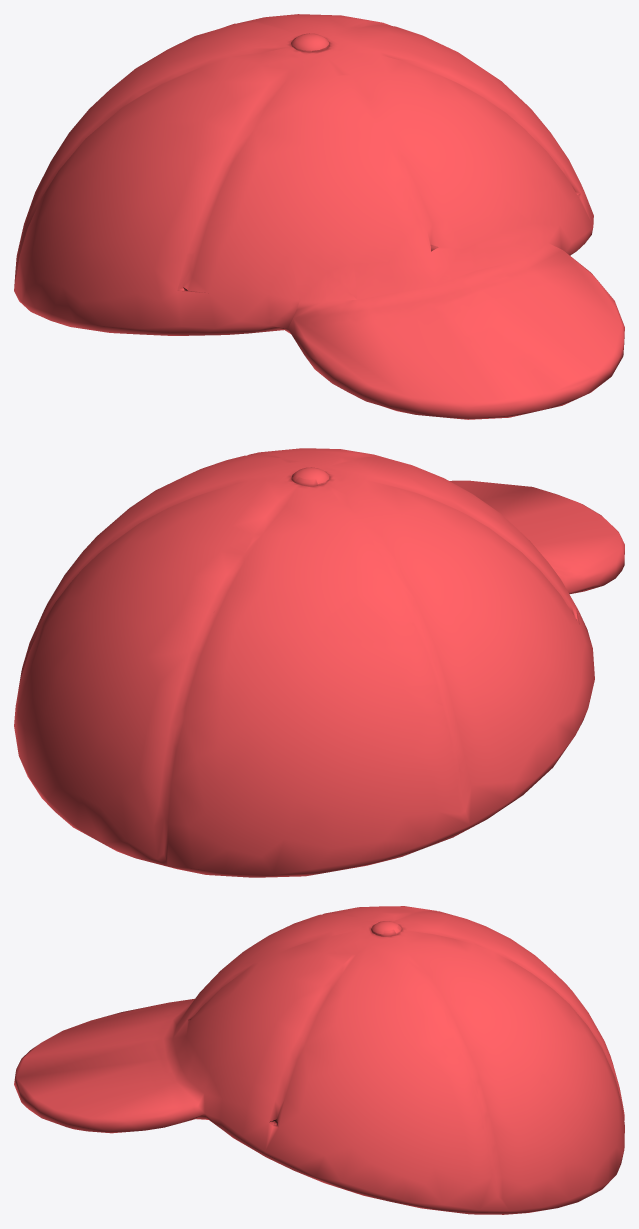
The model's file is hat_cap.glb.
3 views of the same model, one above another, from view 1: azimuth 30°, elevation 25°; view 2: azimuth 150°, elevation 25°; view 3: azimuth 270°, elevation 25° (orthographic). The views are drawn at different scales.
Parts seen in each view (by area): view 1: hat_cap; view 2: hat_cap; view 3: hat_cap.
Boxes of the visible parts, x1=… form: hat_cap: x1=14, y1=14, x2=624, y2=419; hat_cap: x1=14, y1=448, x2=624, y2=877; hat_cap: x1=14, y1=906, x2=624, y2=1214.
Size of the model in its own units: 0.626 by 0.3443 by 0.8205.
2 materials, 2 textured.
